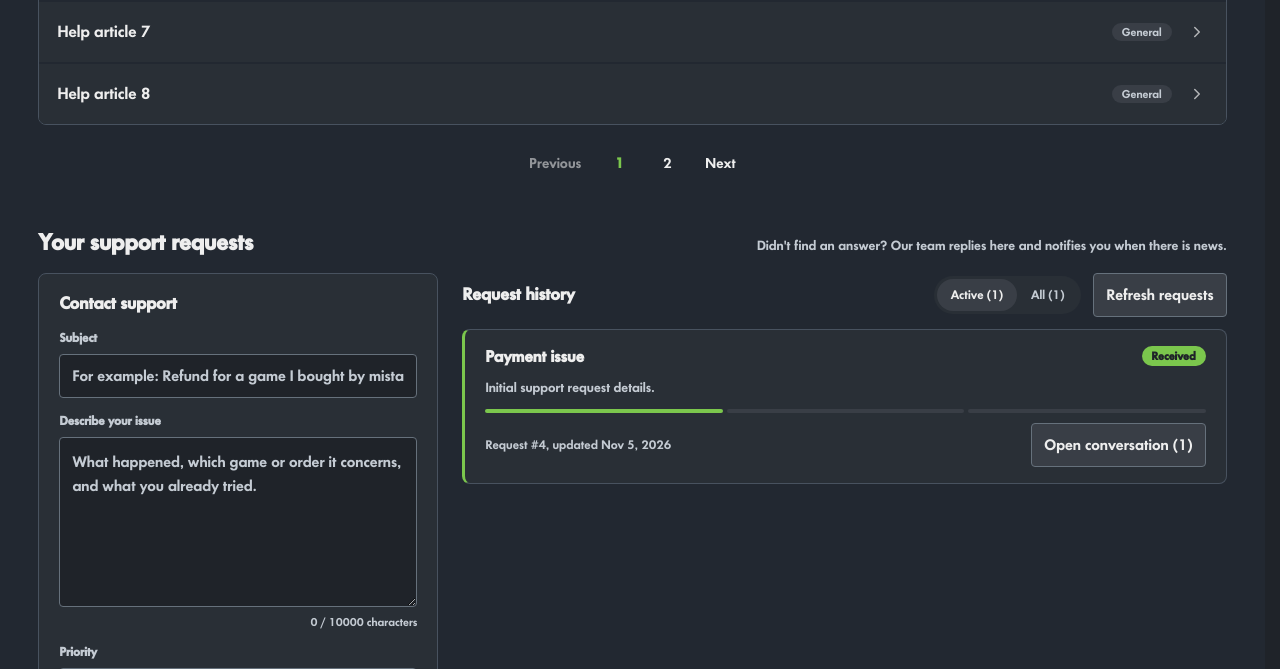
Test case: loads private request history and submits a ticket with the backend contract
This screenshot has width=1280, height=669.
(page scrolled)
Expected: the heading "Payment issue" is shown, [485,346,584,368]
Expected: the text "Initial support request details." is shown, [485,382,655,396]
Type " Cannot pay " into the field labelled "Subject" at (238, 376), box [59,354,417,398]
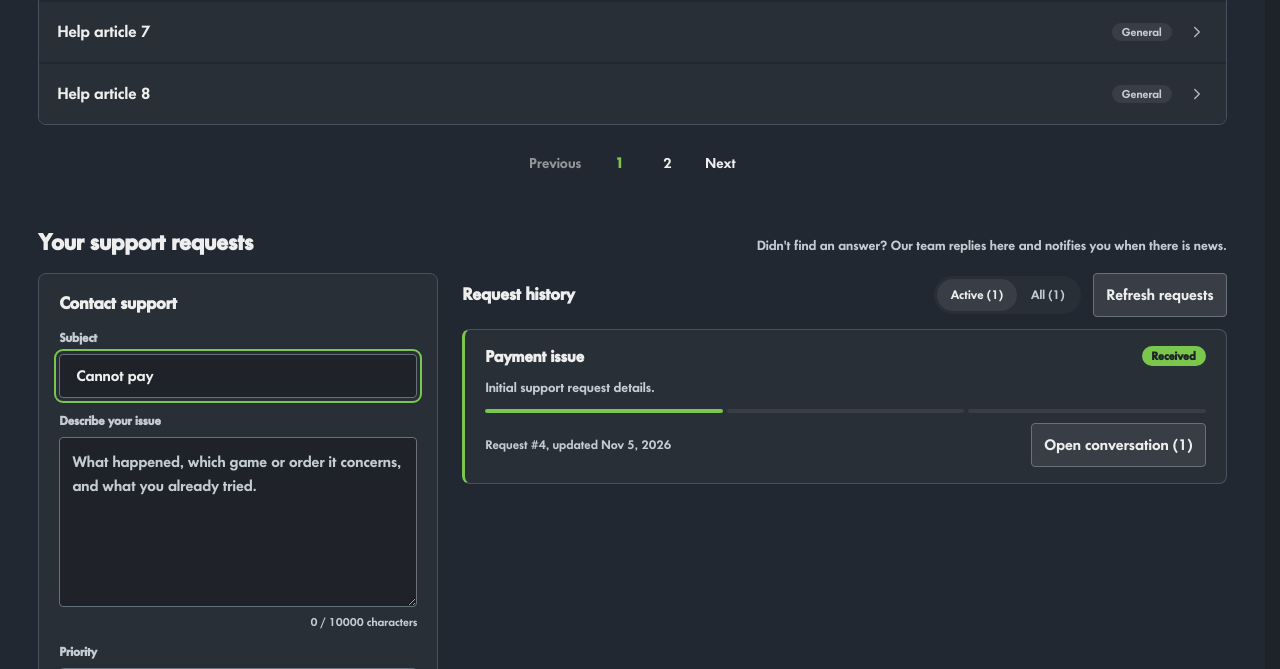
Type " Payment fails at checkout. " into the text box labelled "Describe your issue" at (238, 522), box [59,437,417,607]
(page scrolled)
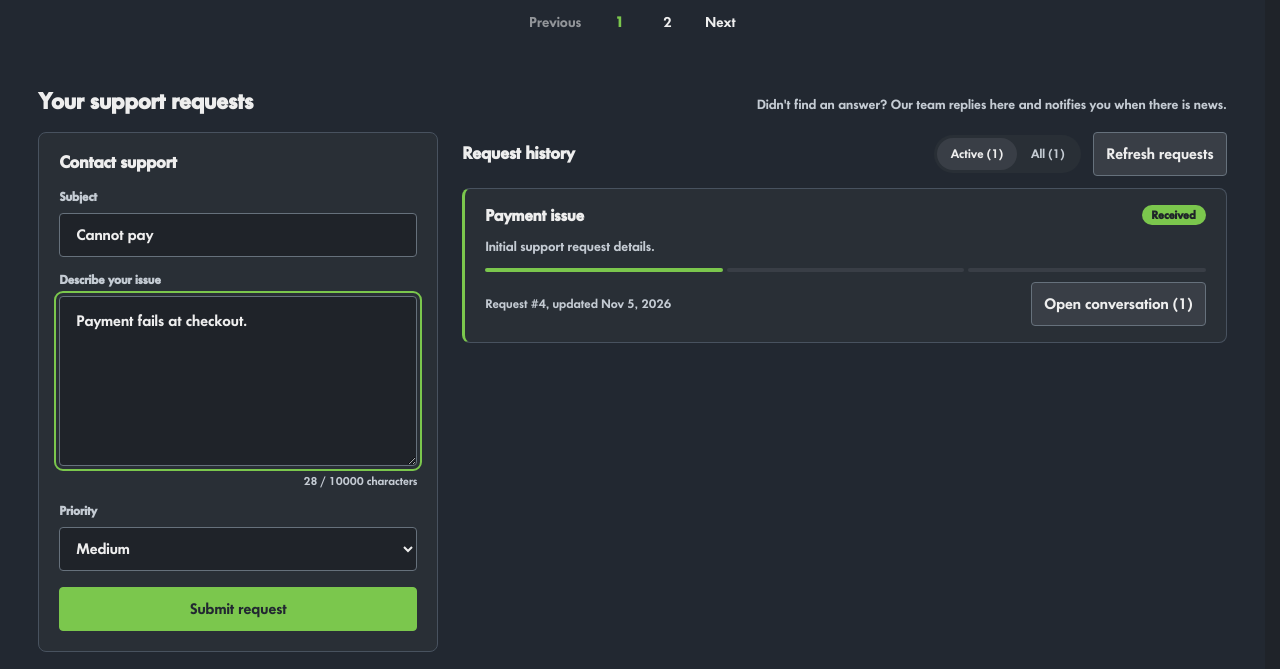
Select "High" in the dropdown labelled "Priority" at (238, 549), box [59,527,417,571]
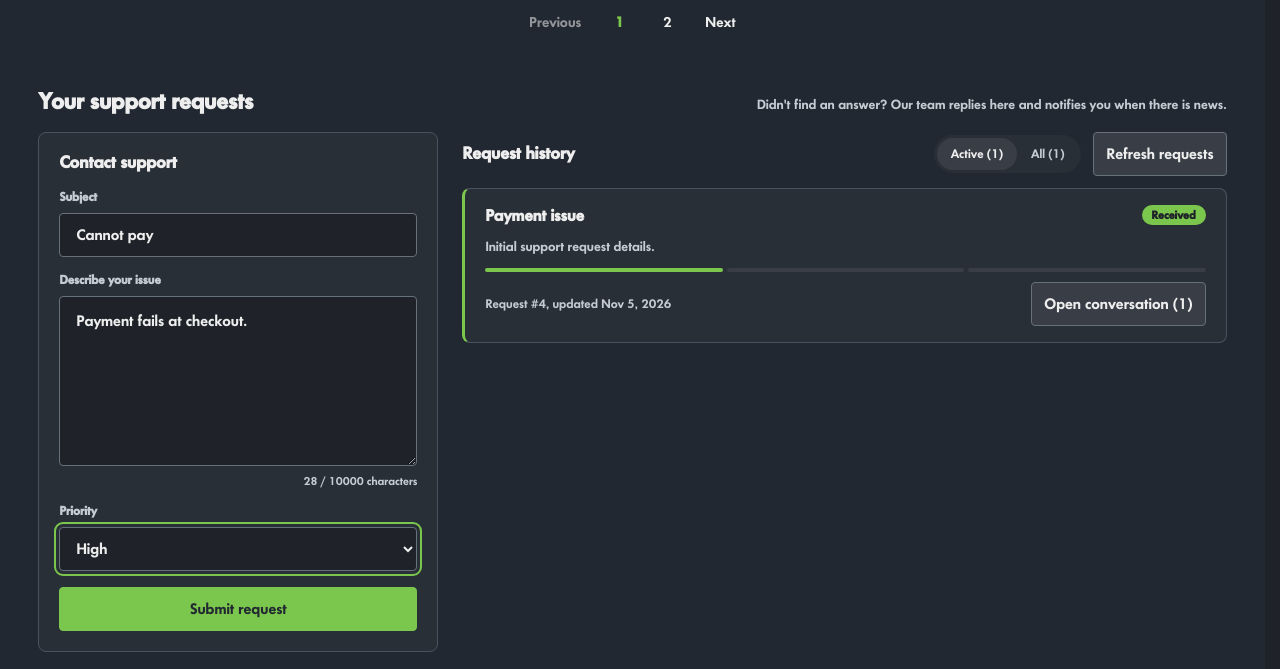
Click the button "Submit request" at (238, 609), box [59,587,417,631]
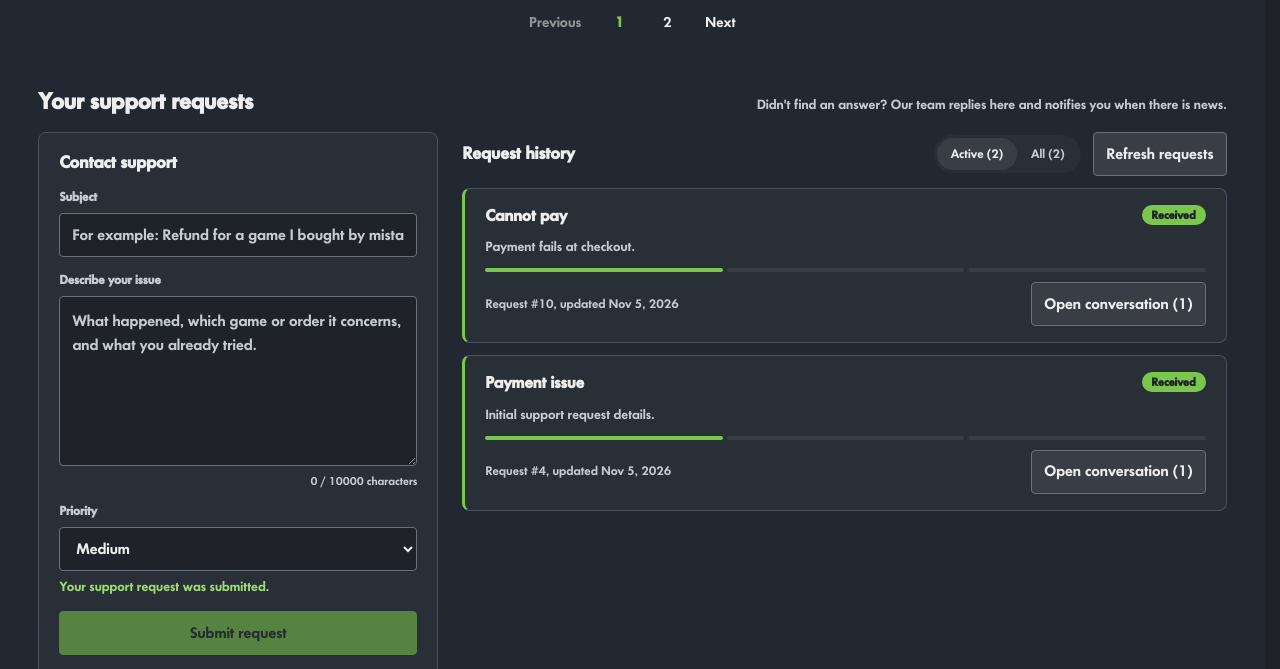
Now the text "Your support request was submitted." is shown, box [59,580,269,594]
Now the heading "Cannot pay" is shown, box [485,205,567,228]
Now the field labelled "Subject" is empty, box [59,213,417,257]
